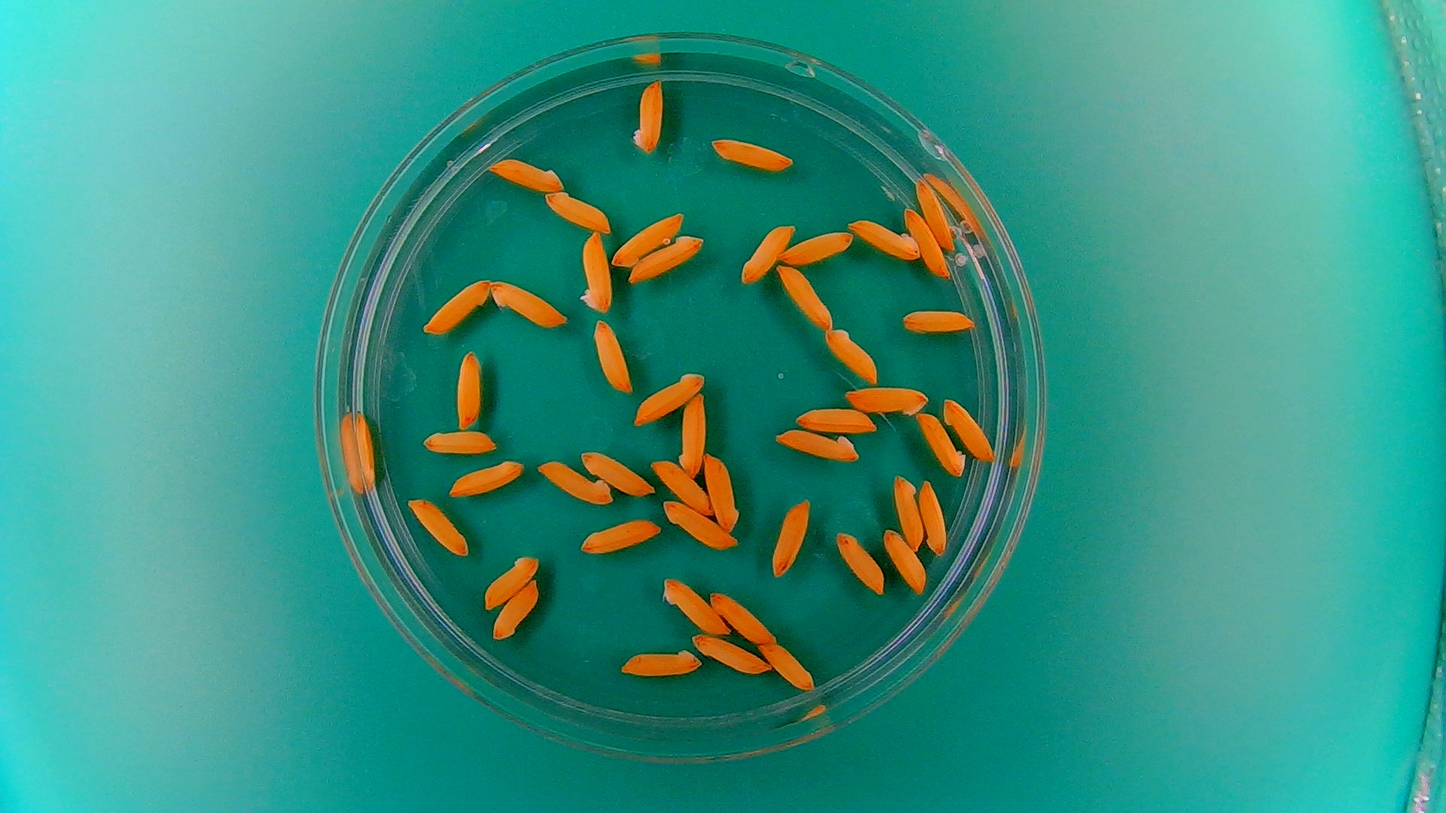no: (629, 368, 708, 428), (657, 574, 730, 636), (606, 209, 684, 267), (420, 276, 490, 336), (490, 275, 570, 327), (662, 496, 738, 550), (405, 495, 469, 558), (534, 457, 613, 507), (941, 393, 997, 463), (579, 446, 654, 498), (648, 456, 714, 515), (776, 263, 834, 330), (627, 236, 711, 282), (709, 589, 776, 644), (901, 204, 950, 279), (915, 409, 968, 478), (739, 219, 795, 284), (707, 133, 795, 174), (769, 495, 812, 578), (822, 324, 880, 385), (770, 425, 862, 463), (847, 215, 923, 261), (578, 515, 663, 556), (590, 315, 633, 396), (880, 525, 929, 596), (833, 529, 885, 595), (447, 455, 526, 497), (481, 553, 539, 610), (913, 177, 957, 252), (691, 633, 769, 675), (703, 451, 742, 533), (492, 578, 541, 642), (842, 382, 929, 418), (486, 154, 566, 193), (758, 640, 817, 692), (576, 228, 612, 312), (543, 190, 613, 233), (628, 75, 665, 155), (889, 470, 924, 553), (616, 646, 703, 679), (778, 229, 854, 266), (917, 474, 950, 556), (676, 390, 706, 478), (792, 404, 879, 434), (453, 346, 484, 429), (900, 304, 978, 336), (351, 408, 380, 494), (418, 427, 501, 456)
